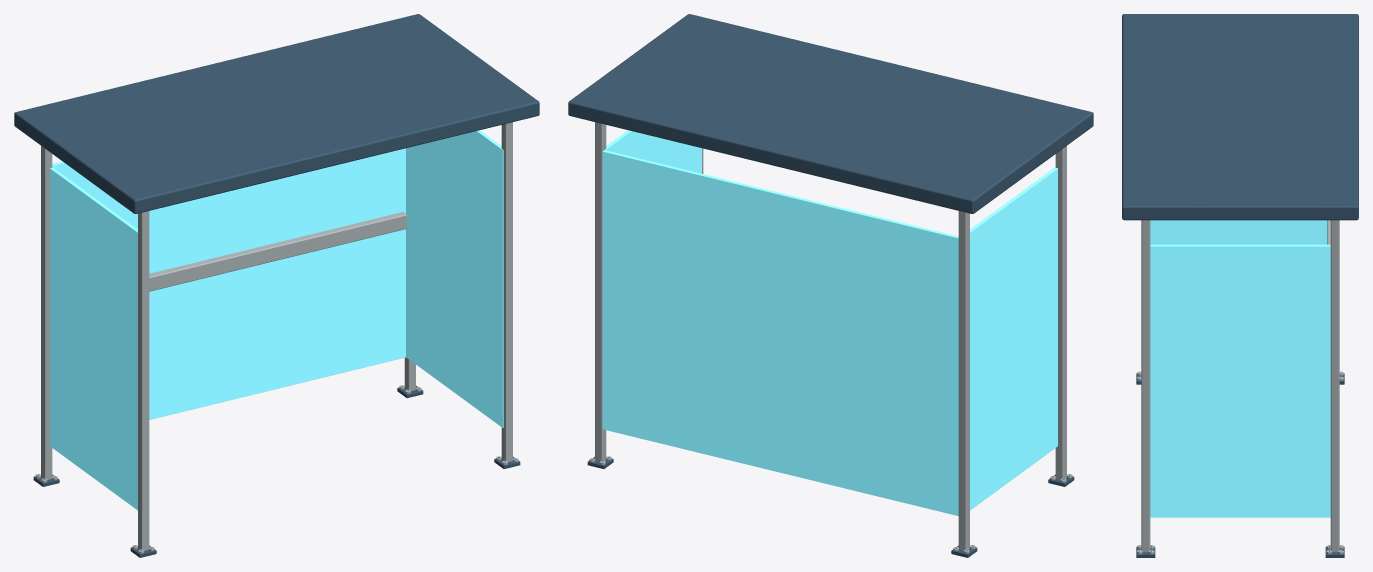
The model's file is container-inspection-and-customs-yard-container-inspec-f1ed5384__29304.glb.
The picture shows the model from 3 angles, left to right: view 1: azimuth 30°, elevation 25°; view 2: azimuth 150°, elevation 25°; view 3: azimuth 270°, elevation 25°; orthographic projection. The views are drawn at different scales.
Visible parts, largest first — view 1: container-inspection-and-customs-yard-waiting-shelter; view 2: container-inspection-and-customs-yard-waiting-shelter; view 3: container-inspection-and-customs-yard-waiting-shelter.
Boxes of the visible parts, x1,y1,x2,y2 form: container-inspection-and-customs-yard-waiting-shelter: [14, 14, 539, 557]; container-inspection-and-customs-yard-waiting-shelter: [568, 14, 1093, 557]; container-inspection-and-customs-yard-waiting-shelter: [1122, 14, 1358, 557].
Size of the model in its own units: 2.9 by 2.5 by 1.5.
